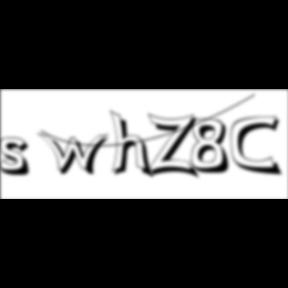8: (192, 117, 236, 176)
C: (231, 115, 286, 178)
Z: (147, 112, 202, 181)
h: (110, 108, 156, 182)
s: (1, 137, 37, 179)
w: (38, 132, 116, 178)
